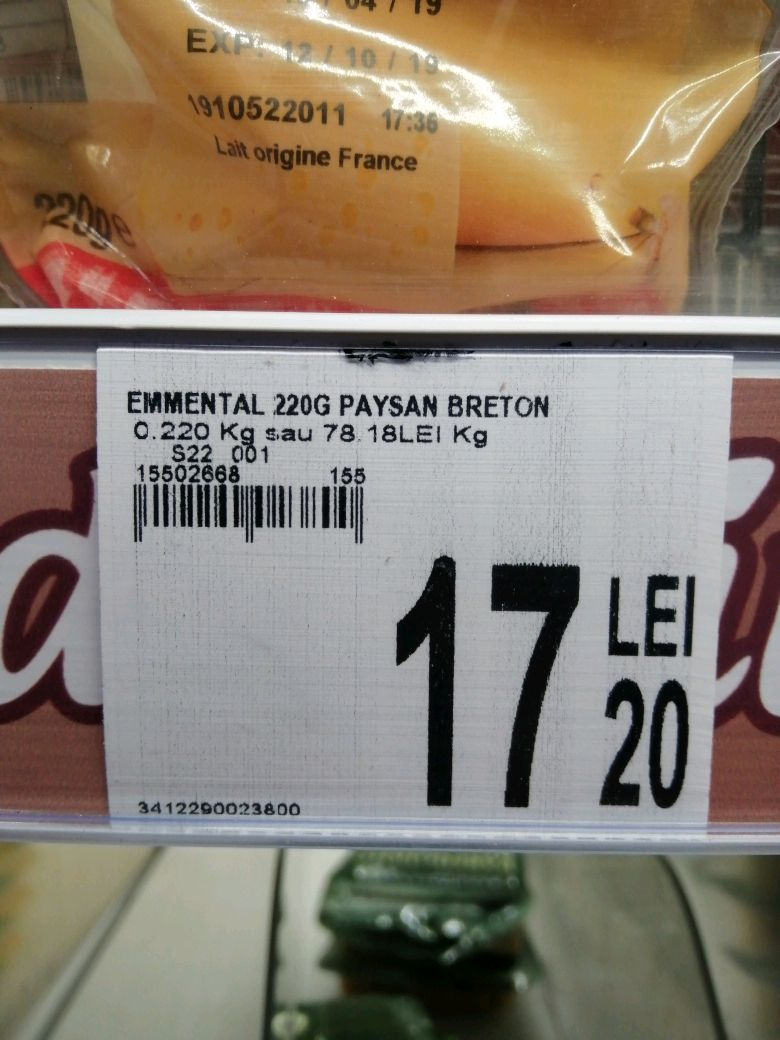price_bani: (593, 667, 699, 821)
price_lei: (368, 543, 586, 822)
price_tag: (81, 342, 741, 859)
product_id: (119, 792, 313, 825)
product_name: (117, 385, 566, 422)
